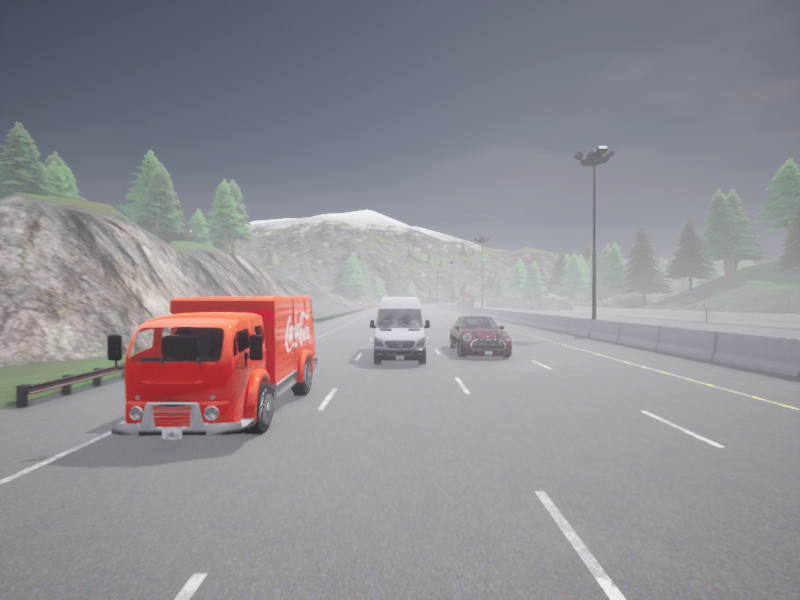vehicle: (107, 295, 316, 439), (370, 297, 429, 364), (450, 315, 511, 357), (457, 294, 473, 306), (456, 302, 457, 305)
